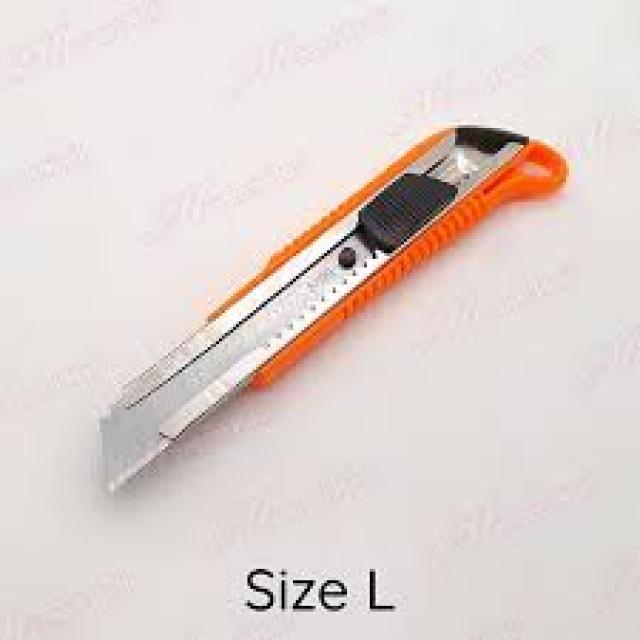Knife: (100, 125, 563, 489)
